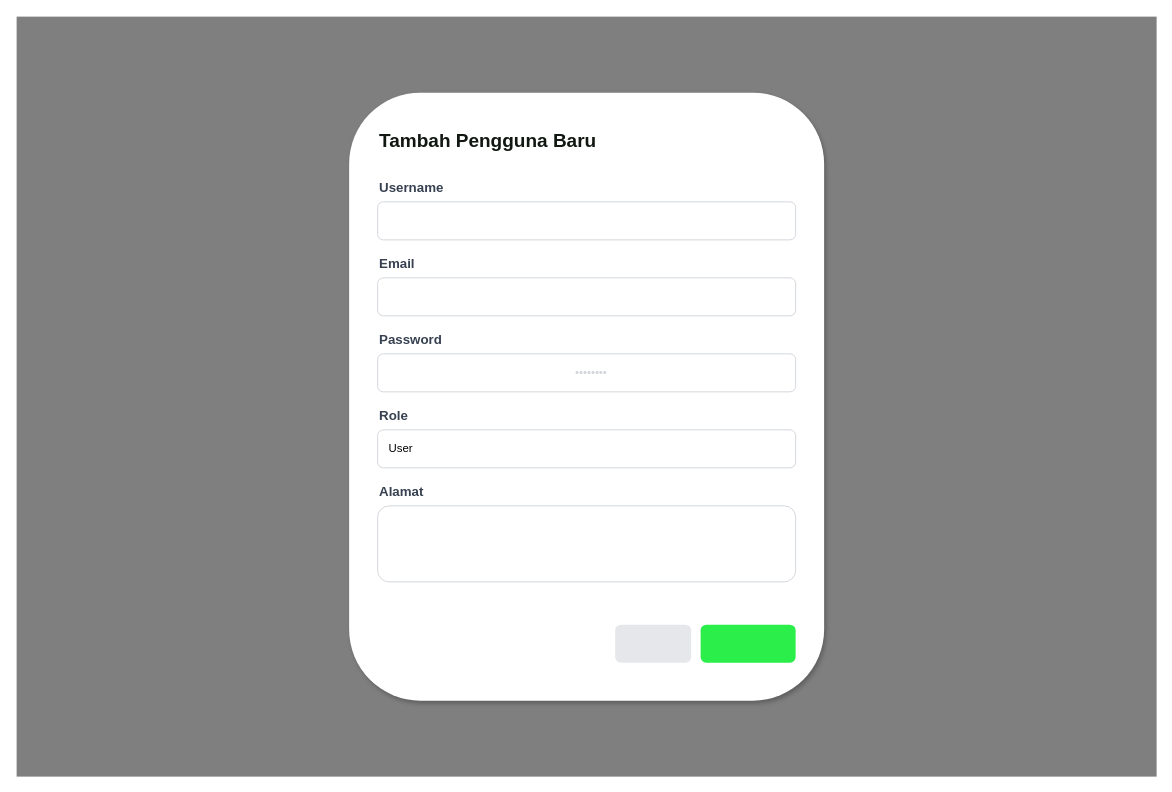
The diagram is 1172 pixels wide and 792 high, and some of its shapes have lost their labels. Here are the shapes that lost their labels. From the top down, the centre of each, then its label:
At point (653, 643): "Batal".
At point (747, 643): "Simpan".
